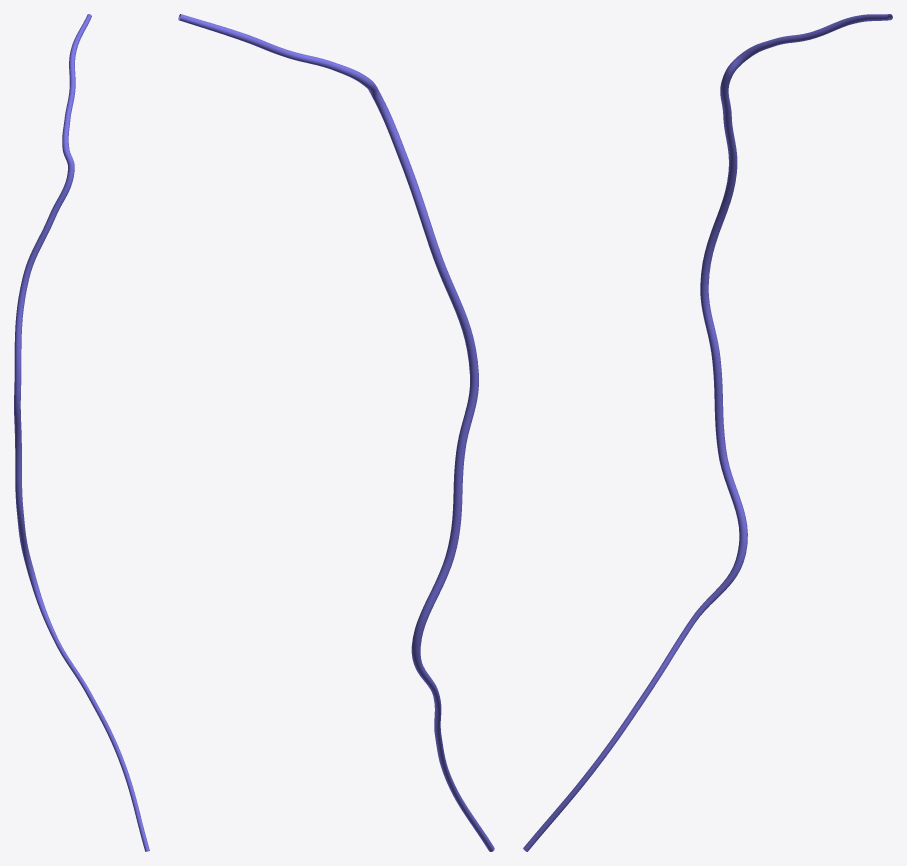
The model's file is Vertebral_vein.l_BezierCurve.477.glb.
3 views of the same model, side by side, from view 1: azimuth 30°, elevation 25°; view 2: azimuth 150°, elevation 25°; view 3: azimuth 270°, elevation 25° (orthographic). The views are drawn at different scales.
Visible parts, largest first — view 1: Vertebral_vein.l_BezierCurve.477; view 2: Vertebral_vein.l_BezierCurve.477; view 3: Vertebral_vein.l_BezierCurve.477.
Part boxes in pixels (box(x1,y1,x2,y2)): Vertebral_vein.l_BezierCurve.477: box(14, 14, 149, 851); Vertebral_vein.l_BezierCurve.477: box(178, 14, 494, 851); Vertebral_vein.l_BezierCurve.477: box(523, 14, 892, 851).
Size of the model in its own units: 0.0347 by 0.1564 by 0.0588.
